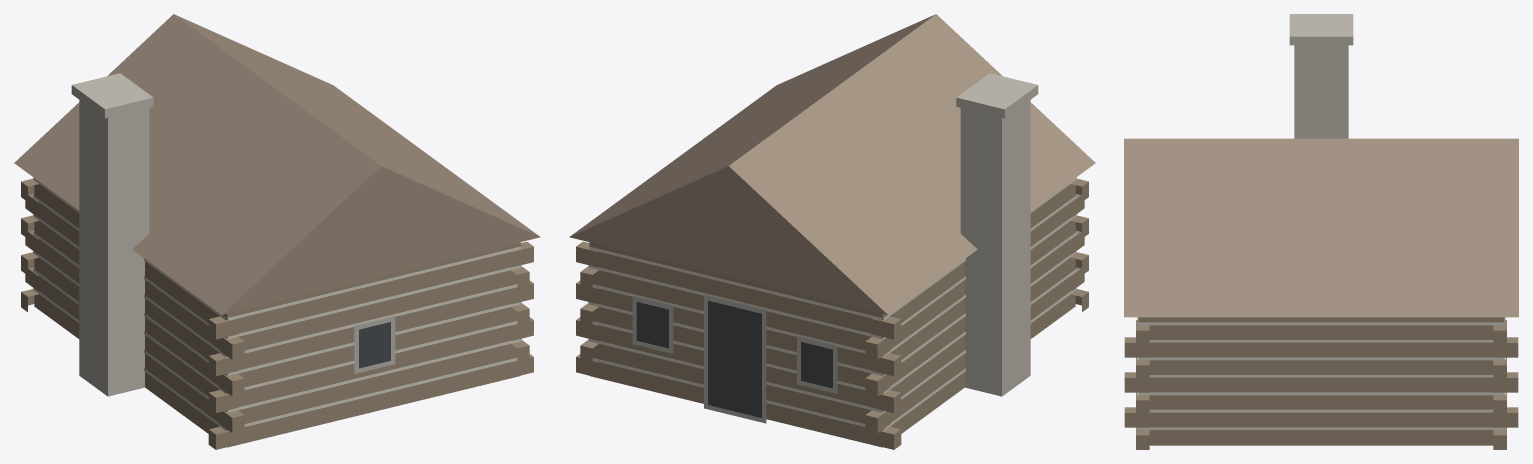
The model's file is recon_1835_blk_south_water_franklin_d1_04__inferred_1835.glb.
3 renders of one model, left to right at view 1: azimuth 30°, elevation 25°; view 2: azimuth 150°, elevation 25°; view 3: azimuth 270°, elevation 25°, orthographic. The views are drawn at different scales.
Visible parts, largest first — view 1: recon_1835_blk_south_water_franklin_d1_04__inferred_1835; view 2: recon_1835_blk_south_water_franklin_d1_04__inferred_1835; view 3: recon_1835_blk_south_water_franklin_d1_04__inferred_1835.
Boxes of the visible parts, bbox=[...] form: recon_1835_blk_south_water_franklin_d1_04__inferred_1835: bbox=[14, 14, 540, 449]; recon_1835_blk_south_water_franklin_d1_04__inferred_1835: bbox=[569, 14, 1095, 449]; recon_1835_blk_south_water_franklin_d1_04__inferred_1835: bbox=[1124, 14, 1518, 449].
Size of the model in its own units: 6.75 by 5.43 by 6.96.
